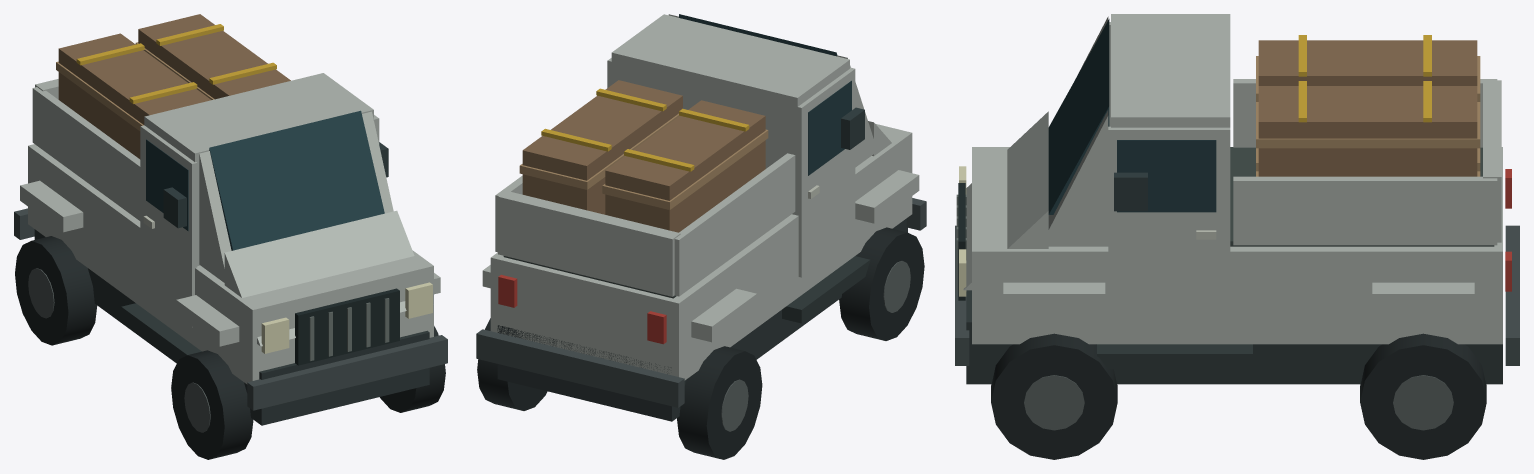
File: CMU3DReduxAU14VehicleCivCivTruck2.glb
The picture shows the model from 3 angles, left to right: view 1: azimuth 30°, elevation 25°; view 2: azimuth 150°, elevation 25°; view 3: azimuth 270°, elevation 25°; orthographic projection. The views are drawn at different scales.
Visible parts, largest first — view 1: lower vehicle body, windshield, wooden cargo crate (×2), rubber road tire (×3), cab bulkhead, front hood, bed side wall, cab door skin, bumper (×2), sealed chassis, front grille, sloping cab frame (+8 smaller); view 2: lower vehicle body, wooden cargo crate (×2), cab bulkhead, rubber road tire (×3), tailgate, bed side wall, cab door skin, bumper (×2), sealed chassis, wheel fender (×2), crate side batten (×2), side window (+7 smaller); view 3: lower vehicle body, wooden cargo crate (×2), rubber road tire (×2), bed side wall (×2), cab door skin, cab bulkhead, sealed chassis, wheel fender (×2), side window, windshield, front hood, recessed metal wheel hub (×2) (+8 smaller).
Part boxes in pixels (<box>): lower vehicle body: <box>28,144,433,384</box>; windshield: <box>209,110,384,250</box>; wooden cargo crate (×2): <box>58,14,290,159</box>; rubber road tire (×3): <box>15,236,445,459</box>; cab bulkhead: <box>144,73,373,265</box>; front hood: <box>224,210,414,346</box>; bed side wall: <box>32,87,140,220</box>; cab door skin: <box>140,125,197,327</box>; bumper (×2): <box>14,208,447,410</box>; sealed chassis: <box>34,229,429,425</box>; front grille: <box>295,288,399,365</box>; sloping cab frame: <box>199,111,393,282</box>; lower vehicle body: <box>490,124,912,380</box>; wooden cargo crate (×2): <box>522,80,765,232</box>; cab bulkhead: <box>611,14,849,215</box>; rubber road tire (×3): <box>477,227,924,459</box>; tailgate: <box>498,190,680,296</box>; bed side wall: <box>674,153,795,296</box>; cab door skin: <box>796,67,855,277</box>; bumper (×2): <box>476,198,926,407</box>; sealed chassis: <box>497,218,907,421</box>; wheel fender (×2): <box>691,170,919,342</box>; crate side batten (×2): <box>519,113,768,209</box>; side window: <box>808,80,851,175</box>; lower vehicle body: <box>972,147,1502,344</box>; wooden cargo crate (×2): <box>1258,40,1477,176</box>; rubber road tire (×2): <box>991,333,1486,459</box>; bed side wall (×2): <box>1233,79,1497,245</box>; cab door skin: <box>1108,126,1230,322</box>; cab bulkhead: <box>1111,14,1230,127</box>; sealed chassis: <box>966,290,1502,384</box>; wheel fender (×2): <box>1003,282,1474,311</box>; side window: <box>1117,140,1216,212</box>; windshield: <box>1048,19,1109,214</box>; front hood: <box>963,111,1048,290</box>; recessed metal wheel hub (×2): <box>1024,375,1453,430</box>.
Bounding box in the file's own units: 1.07 × 1.3 × 1.99.
